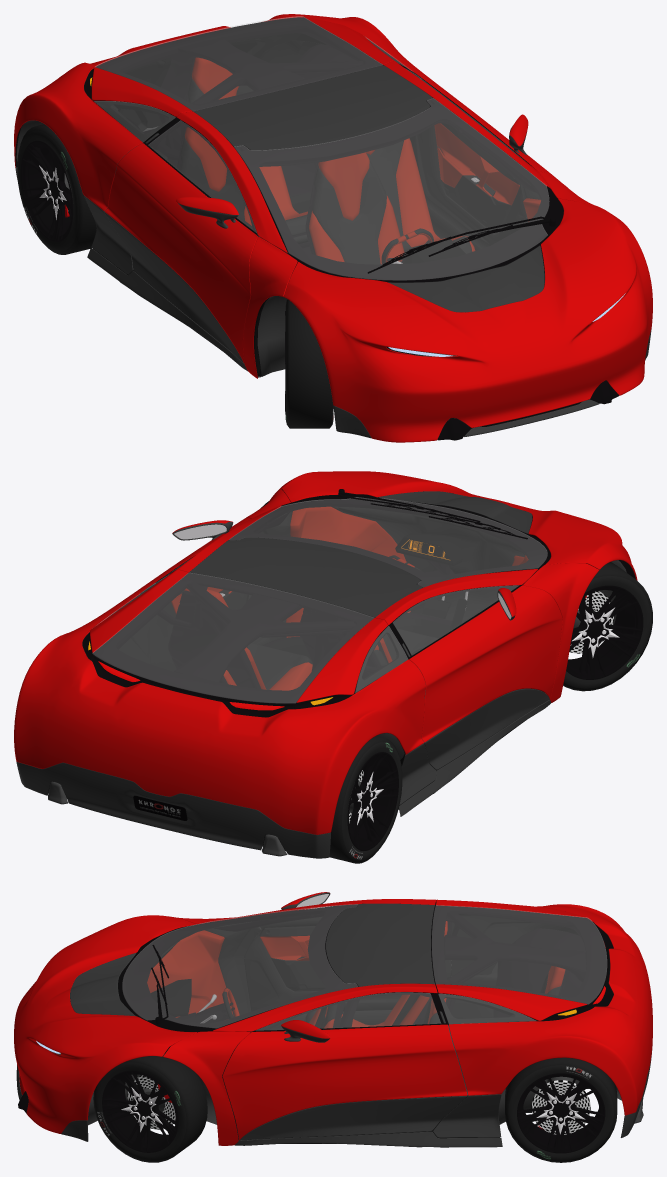
File: kitt-concept.glb
The picture shows the model from 3 angles, top to bottom: view 1: azimuth 30°, elevation 25°; view 2: azimuth 150°, elevation 25°; view 3: azimuth 270°, elevation 25°; orthographic projection. The views are drawn at different scales.
Visible parts, largest first — view 1: BodyHood, BodyWindshield, BodyRearwindow, BodyDoorRColor1, BodyRearPanelsColor1, BodyRoofPanel, BodyWindshieldGasket, InteriorSeatsColor1, InteriorSeatsColor2, BodyPillars, InteriorPillar, InteriorRearHatch (+21 smaller); view 2: BodyRearPanelsColor1, BodyRearwindow, BodyWindshield, BodyDoorRColor1, BodyPanelsColor2, BodyRoofPanel, BodyHood, InteriorRearHatch, BodyPillars, InteriorPillar, BodyWindshieldGasket, InteriorDashMid (+22 smaller); view 3: BodyRearPanelsColor1, BodyWindshield, BodyDoorLColor1, BodyHood, BodyRearwindow, BodyRoofPanel, BodyPillars, BodyWindshieldGasket, BodyDoorLColor2, BodyPanelsColor2, WheelFrontL, InteriorRearHatch (+25 smaller).
Part boxes in pixels (x1,y1,x2,y2): BodyHood: (283, 198, 652, 442); BodyWindshield: (234, 98, 549, 280); BodyRearwindow: (95, 16, 382, 110); BodyDoorRColor1: (104, 143, 257, 362); BodyRearPanelsColor1: (14, 14, 428, 210); BodyRoofPanel: (193, 65, 432, 150); BodyWindshieldGasket: (234, 99, 563, 282); InteriorSeatsColor1: (185, 57, 475, 264); InteriorSeatsColor2: (180, 78, 472, 264); BodyPillars: (176, 61, 598, 378); InteriorPillar: (158, 37, 434, 168); InteriorRearHatch: (93, 17, 383, 117); BodyRearPanelsColor1: (14, 569, 425, 834); BodyRearwindow: (92, 573, 373, 703); BodyWindshield: (229, 497, 547, 587); BodyDoorRColor1: (409, 585, 562, 742); BodyPanelsColor2: (16, 700, 550, 858); BodyRoofPanel: (189, 537, 422, 617); BodyHood: (279, 471, 637, 580); InteriorRearHatch: (93, 573, 386, 707); BodyPillars: (175, 489, 599, 702); InteriorPillar: (174, 574, 417, 682); BodyWindshieldGasket: (230, 497, 550, 587); InteriorDashMid: (331, 503, 528, 622); BodyRearPanelsColor1: (436, 899, 652, 1115); BodyWindshield: (122, 904, 357, 1028); BodyDoorLColor1: (222, 1024, 467, 1139); BodyHood: (14, 915, 196, 1133); BodyRearwindow: (432, 905, 606, 1003); BodyRoofPanel: (326, 903, 434, 986); BodyPillars: (163, 899, 437, 1145); BodyWindshieldGasket: (118, 905, 357, 1032); BodyDoorLColor2: (240, 1096, 467, 1140); BodyPanelsColor2: (16, 1050, 652, 1147); WheelFrontL: (93, 1054, 207, 1162); InteriorRearHatch: (431, 905, 606, 1020).
Size of the model in its own units: 2.54 by 1.15 by 4.36.
Materials: 23 (6 with a texture image).
